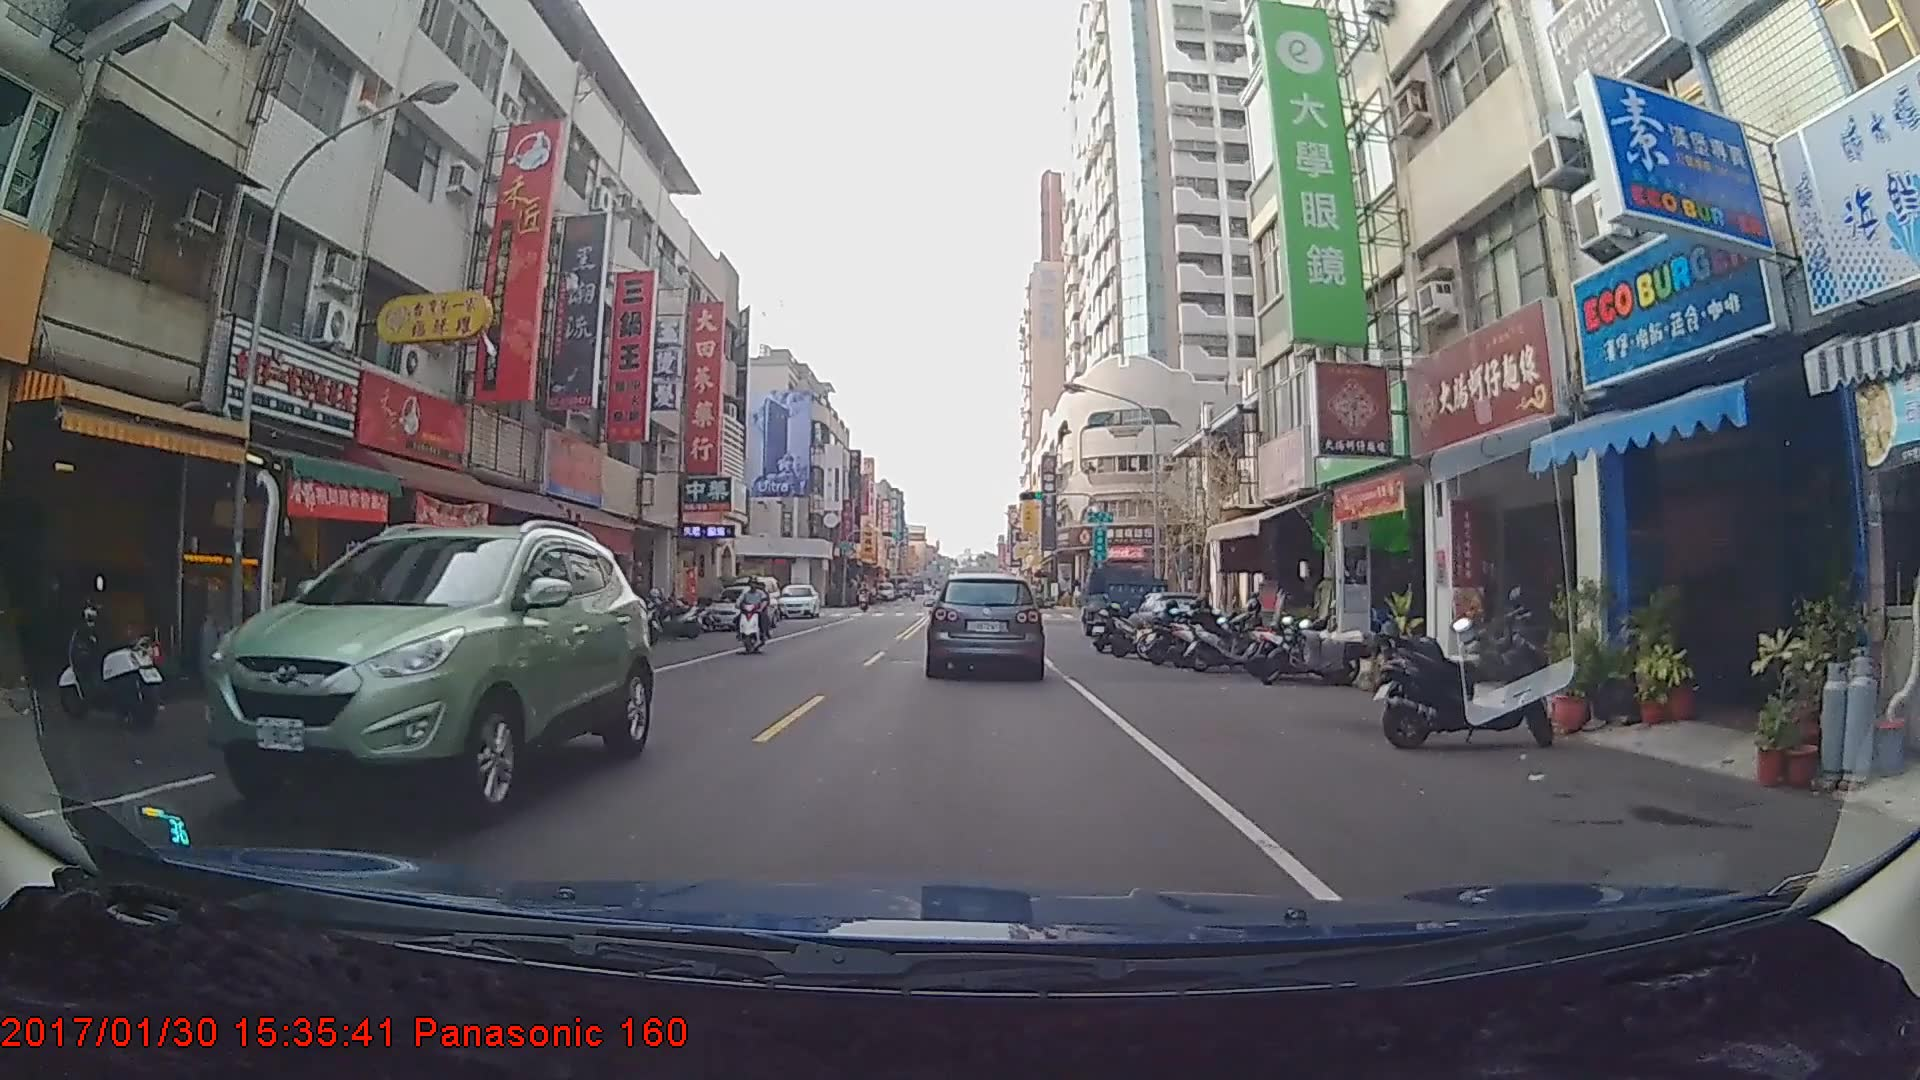rider: (734, 574, 779, 654)
vehicle: (201, 522, 654, 828), (929, 571, 1042, 678), (1079, 563, 1172, 637), (704, 583, 782, 632), (775, 582, 820, 619)
